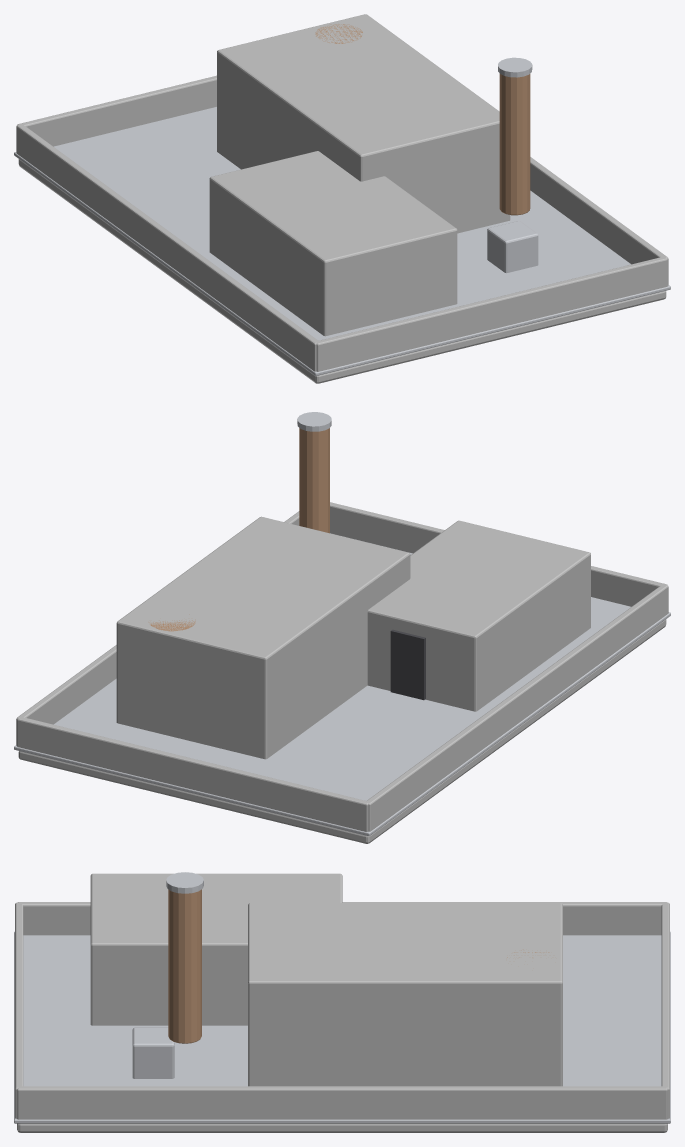
File: roof_4x6_boiler_concrete.glb
3 views of the same model, one above another, from view 1: azimuth 30°, elevation 25°; view 2: azimuth 150°, elevation 25°; view 3: azimuth 270°, elevation 25° (orthographic). The views are drawn at different scales.
Visible parts, largest first — view 1: ext_boiler, ext_penthouse, ext_parapet, int_slab_edge, int_slab, ext_stack, ext_ac, ext_stack_top; view 2: ext_boiler, ext_parapet, ext_penthouse, int_slab_edge, int_slab, ext_stack, ext_penthouse_door; view 3: ext_boiler, int_slab_edge, ext_parapet, ext_penthouse, int_slab, ext_stack, ext_ac, ext_stack_top.
Boxes of the visible parts, <box> form: ext_boiler: <box>217,14,510,233</box>; ext_penthouse: <box>209,151,457,336</box>; ext_parapet: <box>16,75,668,371</box>; int_slab_edge: <box>14,107,670,375</box>; int_slab: <box>18,159,666,383</box>; ext_stack: <box>499,74,530,215</box>; ext_ac: <box>487,221,538,273</box>; ext_stack_top: <box>498,57,532,77</box>; ext_boiler: <box>116,516,410,759</box>; ext_parapet: <box>16,502,668,831</box>; ext_penthouse: <box>367,520,590,711</box>; int_slab_edge: <box>14,533,670,836</box>; int_slab: <box>18,619,666,843</box>; ext_stack: <box>299,428,329,533</box>; ext_penthouse_door: <box>390,629,425,700</box>; ext_boiler: <box>248,903,562,1086</box>; int_slab_edge: <box>14,931,670,1123</box>; ext_parapet: <box>15,902,669,1119</box>; ext_penthouse: <box>90,873,342,1025</box>; int_slab: <box>17,1123,667,1132</box>; ext_stack: <box>168,889,201,1043</box>; ext_ac: <box>132,1027,174,1078</box>; ext_stack_top: <box>166,872,203,893</box>.
Size of the model in its own units: 4.26 by 2.25 by 6.26.
